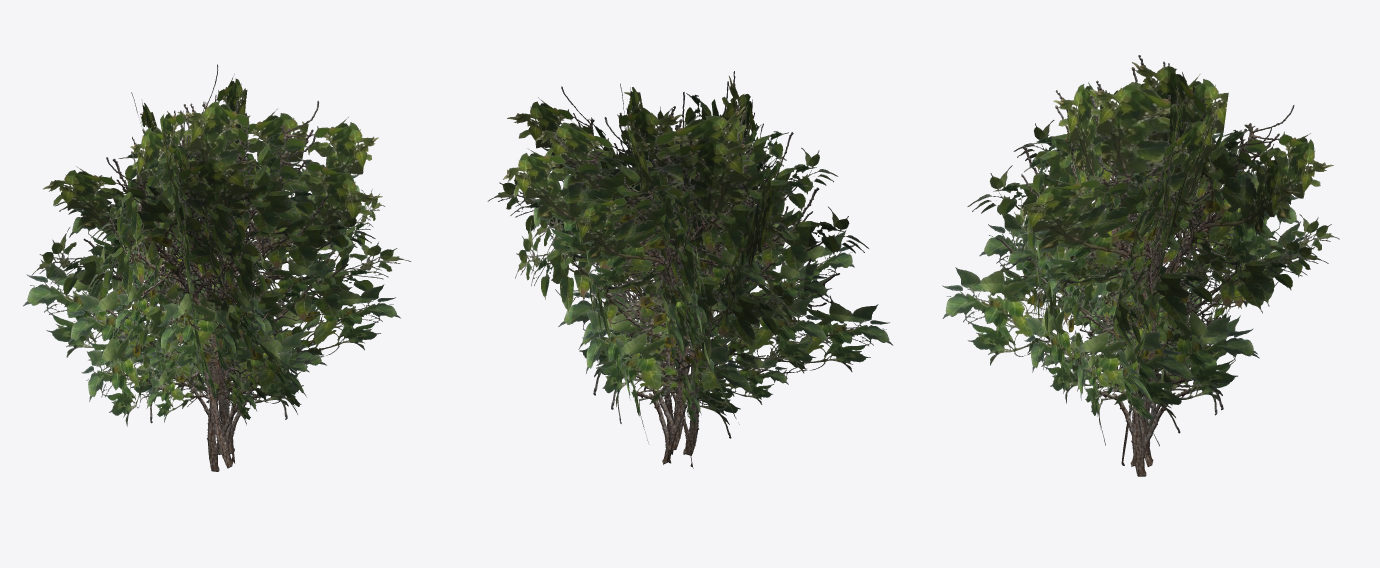
The model's file is shrub.glb.
The picture shows the model from 3 angles, left to right: view 1: azimuth 30°, elevation 25°; view 2: azimuth 150°, elevation 25°; view 3: azimuth 270°, elevation 25°; orthographic projection. The views are drawn at different scales.
Visible parts, largest first — view 1: vetka_kusta.004; view 2: vetka_kusta.004; view 3: vetka_kusta.004.
Boxes of the visible parts, x1,y1,x2,y2 form: vetka_kusta.004: [23, 64, 411, 471]; vetka_kusta.004: [487, 71, 893, 468]; vetka_kusta.004: [942, 55, 1339, 476].
Size of the model in its own units: 1.08 by 1.1 by 1.06.
1 material, 1 textured.
